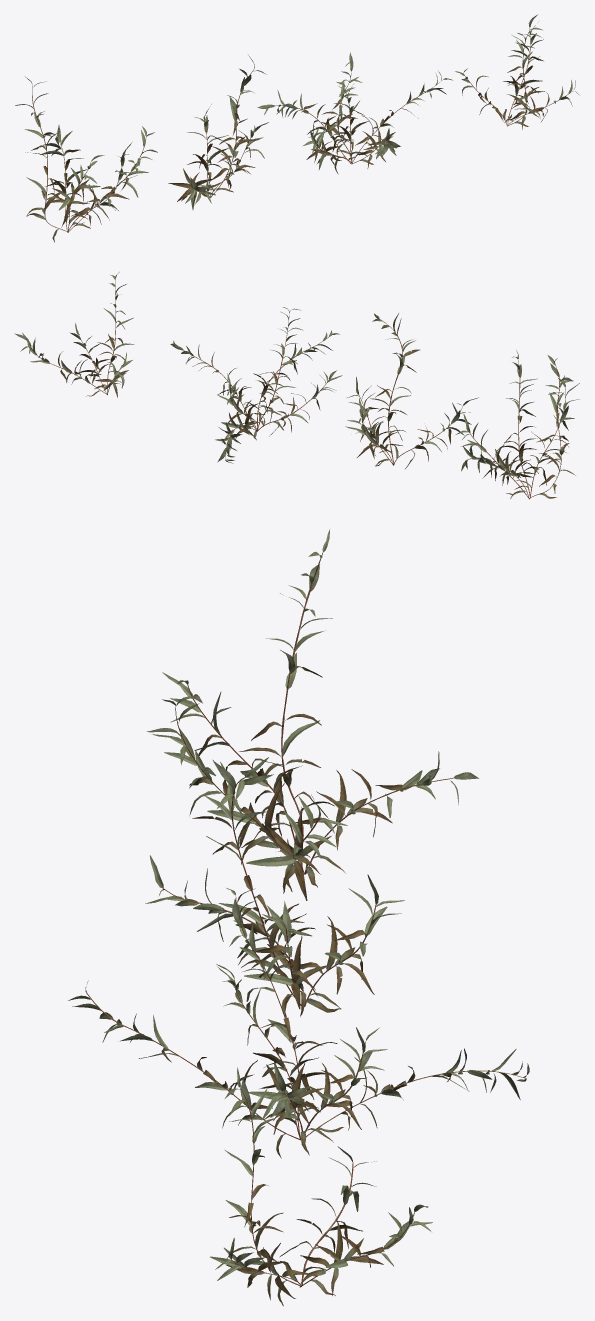
The model's file is shrub_02.glb.
The picture shows the model from 3 angles, top to bottom: view 1: azimuth 30°, elevation 25°; view 2: azimuth 150°, elevation 25°; view 3: azimuth 270°, elevation 25°; orthographic projection. The views are drawn at different scales.
Parts seen in each view (by area): view 1: shrub_02_c, shrub_02_a, shrub_02_b, shrub_02_d; view 2: shrub_02_a, shrub_02_c, shrub_02_b, shrub_02_d; view 3: shrub_02_a, shrub_02_c, shrub_02_b, shrub_02_d.
Part boxes in pixels (bbox=[...]): shrub_02_c: bbox=[257, 52, 452, 174]; shrub_02_a: bbox=[15, 77, 157, 242]; shrub_02_b: bbox=[168, 55, 268, 209]; shrub_02_d: bbox=[455, 14, 579, 129]; shrub_02_a: bbox=[455, 350, 579, 499]; shrub_02_c: bbox=[170, 307, 342, 463]; shrub_02_b: bbox=[345, 313, 478, 468]; shrub_02_d: bbox=[14, 272, 134, 397]; shrub_02_a: bbox=[147, 529, 478, 900]; shrub_02_c: bbox=[68, 888, 529, 1158]; shrub_02_b: bbox=[145, 757, 404, 1018]; shrub_02_d: bbox=[210, 1067, 432, 1306].
Size of the model in its own units: 6.05 by 1.7 by 2.29.
1 material, 1 textured.
